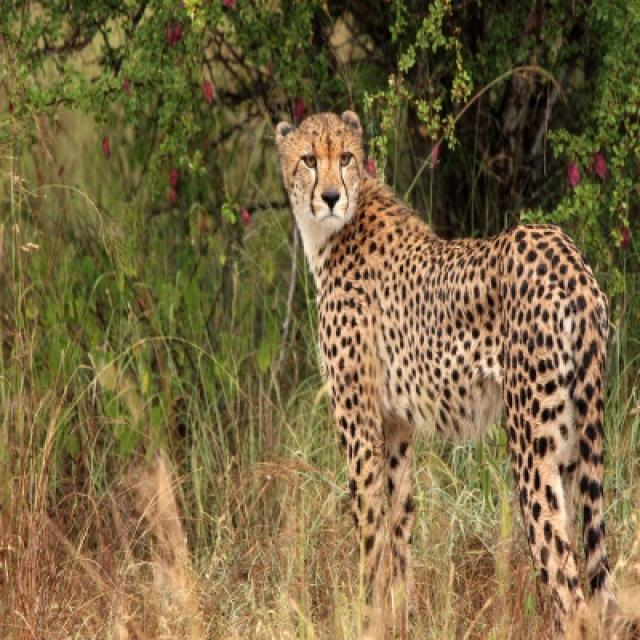Cheetah: (272, 112, 613, 638)
